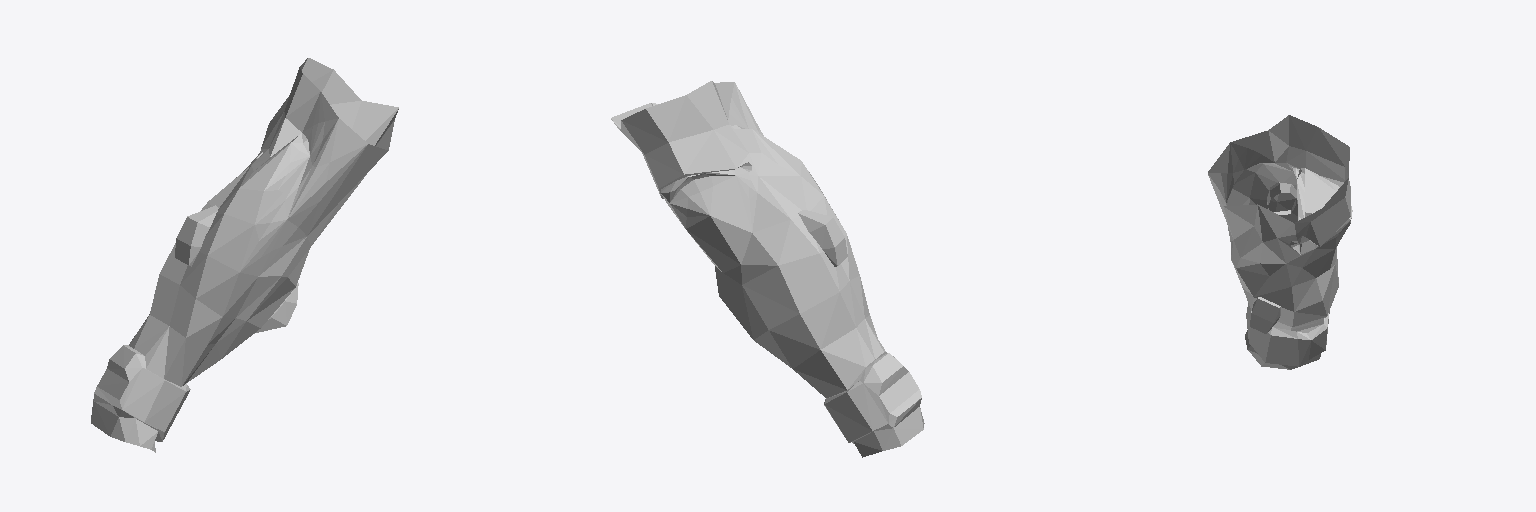
Rendered from nn_larm.obj.
3 renders of one model, left to right at view 1: azimuth 30°, elevation 25°; view 2: azimuth 150°, elevation 25°; view 3: azimuth 270°, elevation 25°, orthographic.
Parts seen in each view (by area): view 1: S-LoW.slow_nanosuit.smd.mesh_1.002; view 2: S-LoW.slow_nanosuit.smd.mesh_1.002; view 3: S-LoW.slow_nanosuit.smd.mesh_1.002.
Boxes of the visible parts, box(x1,y1,x2,y2) form: S-LoW.slow_nanosuit.smd.mesh_1.002: box(91, 58, 398, 452); S-LoW.slow_nanosuit.smd.mesh_1.002: box(611, 81, 924, 457); S-LoW.slow_nanosuit.smd.mesh_1.002: box(1208, 115, 1352, 369).
Bounding box in the file's own units: 13.39 × 14.12 × 5.59.